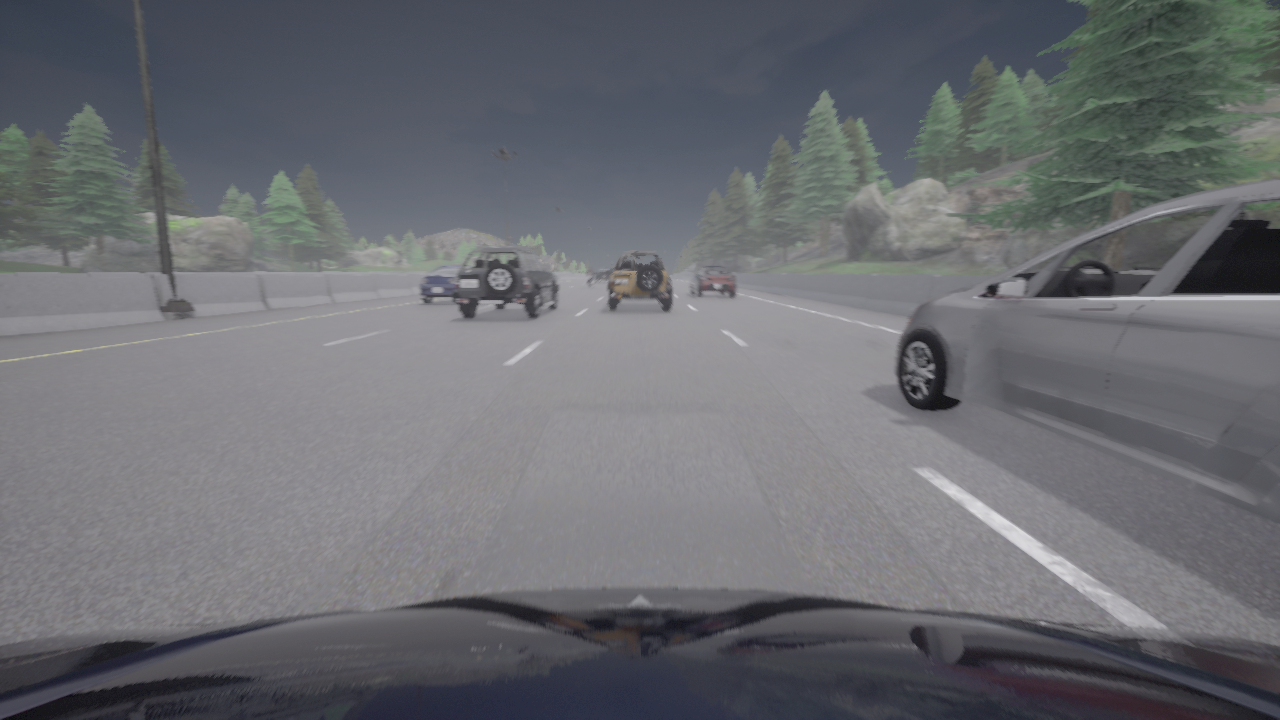cyclist: (0, 588, 1279, 719), (895, 179, 1279, 524), (452, 246, 560, 319), (608, 251, 671, 310), (418, 265, 461, 304), (690, 265, 735, 297), (595, 268, 612, 282), (586, 273, 593, 287)
